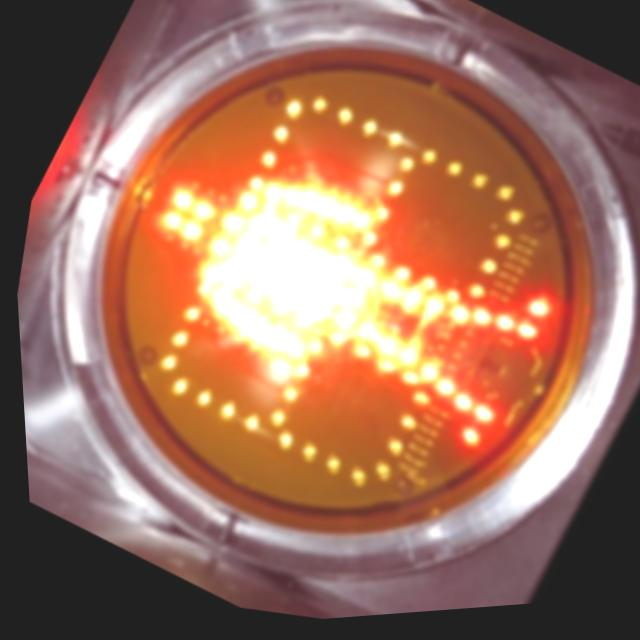red_light: (57, 65, 615, 535)
